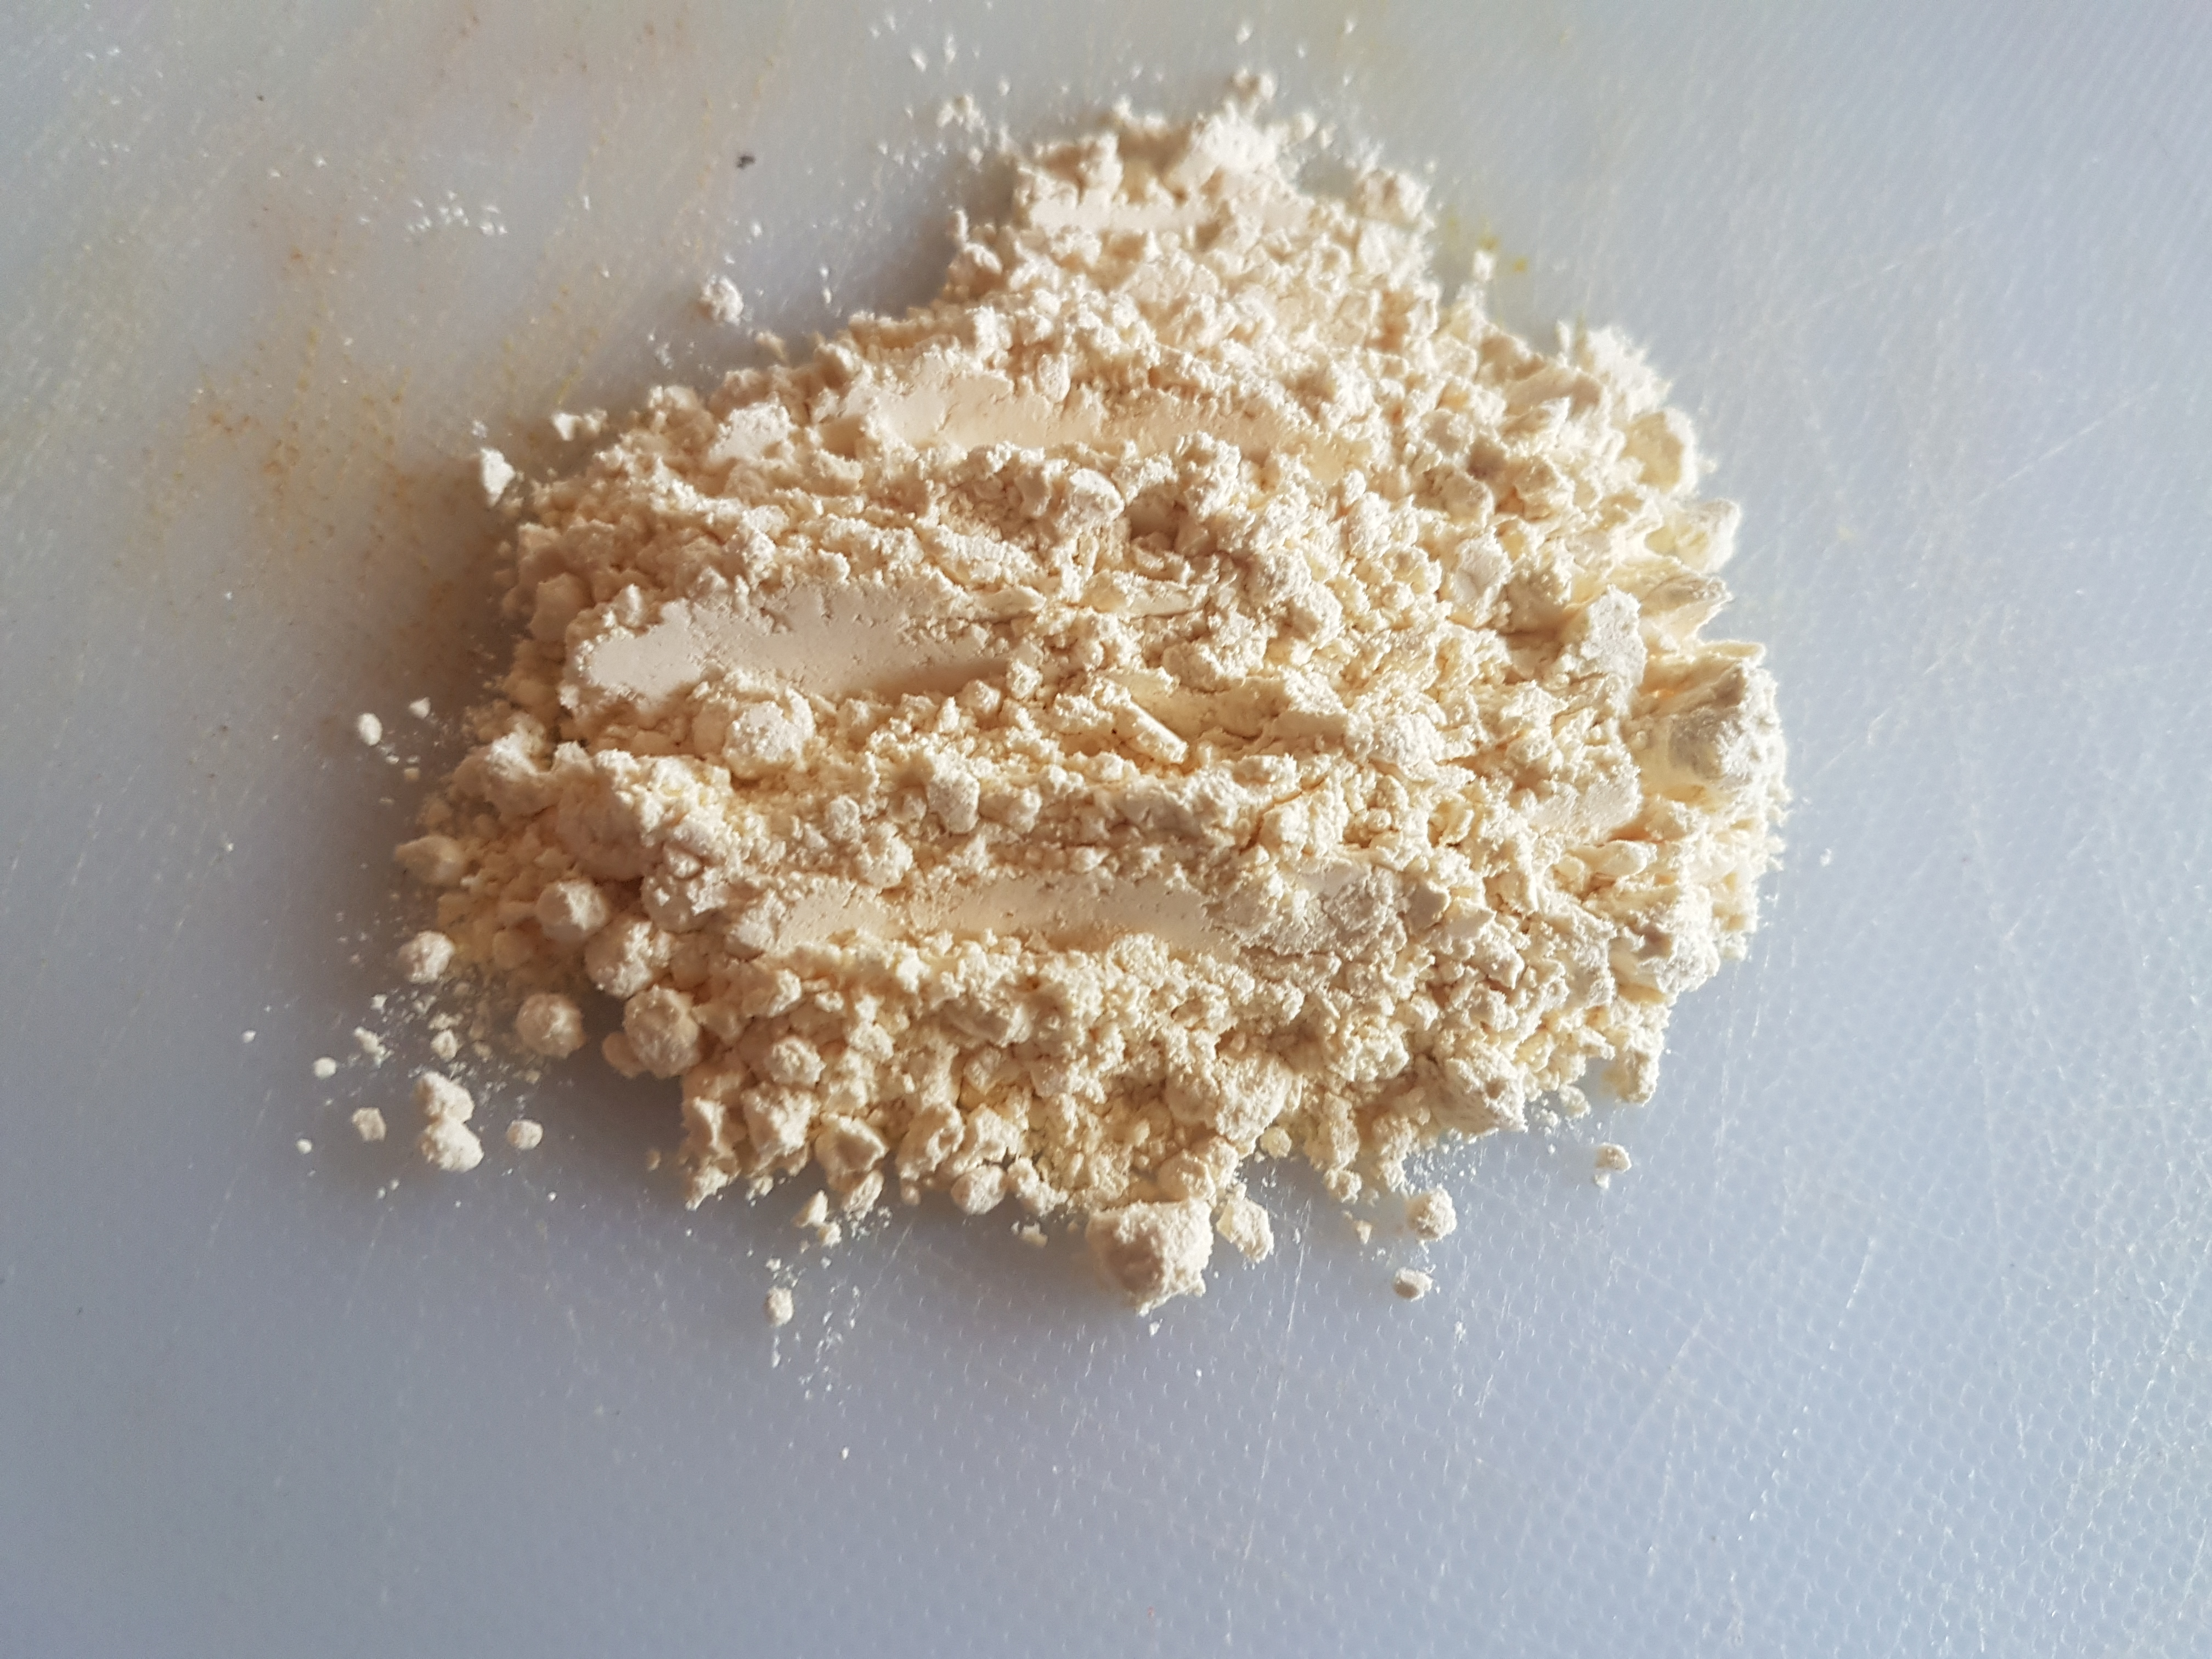Gram Flour: (188, 91, 1947, 1370)
